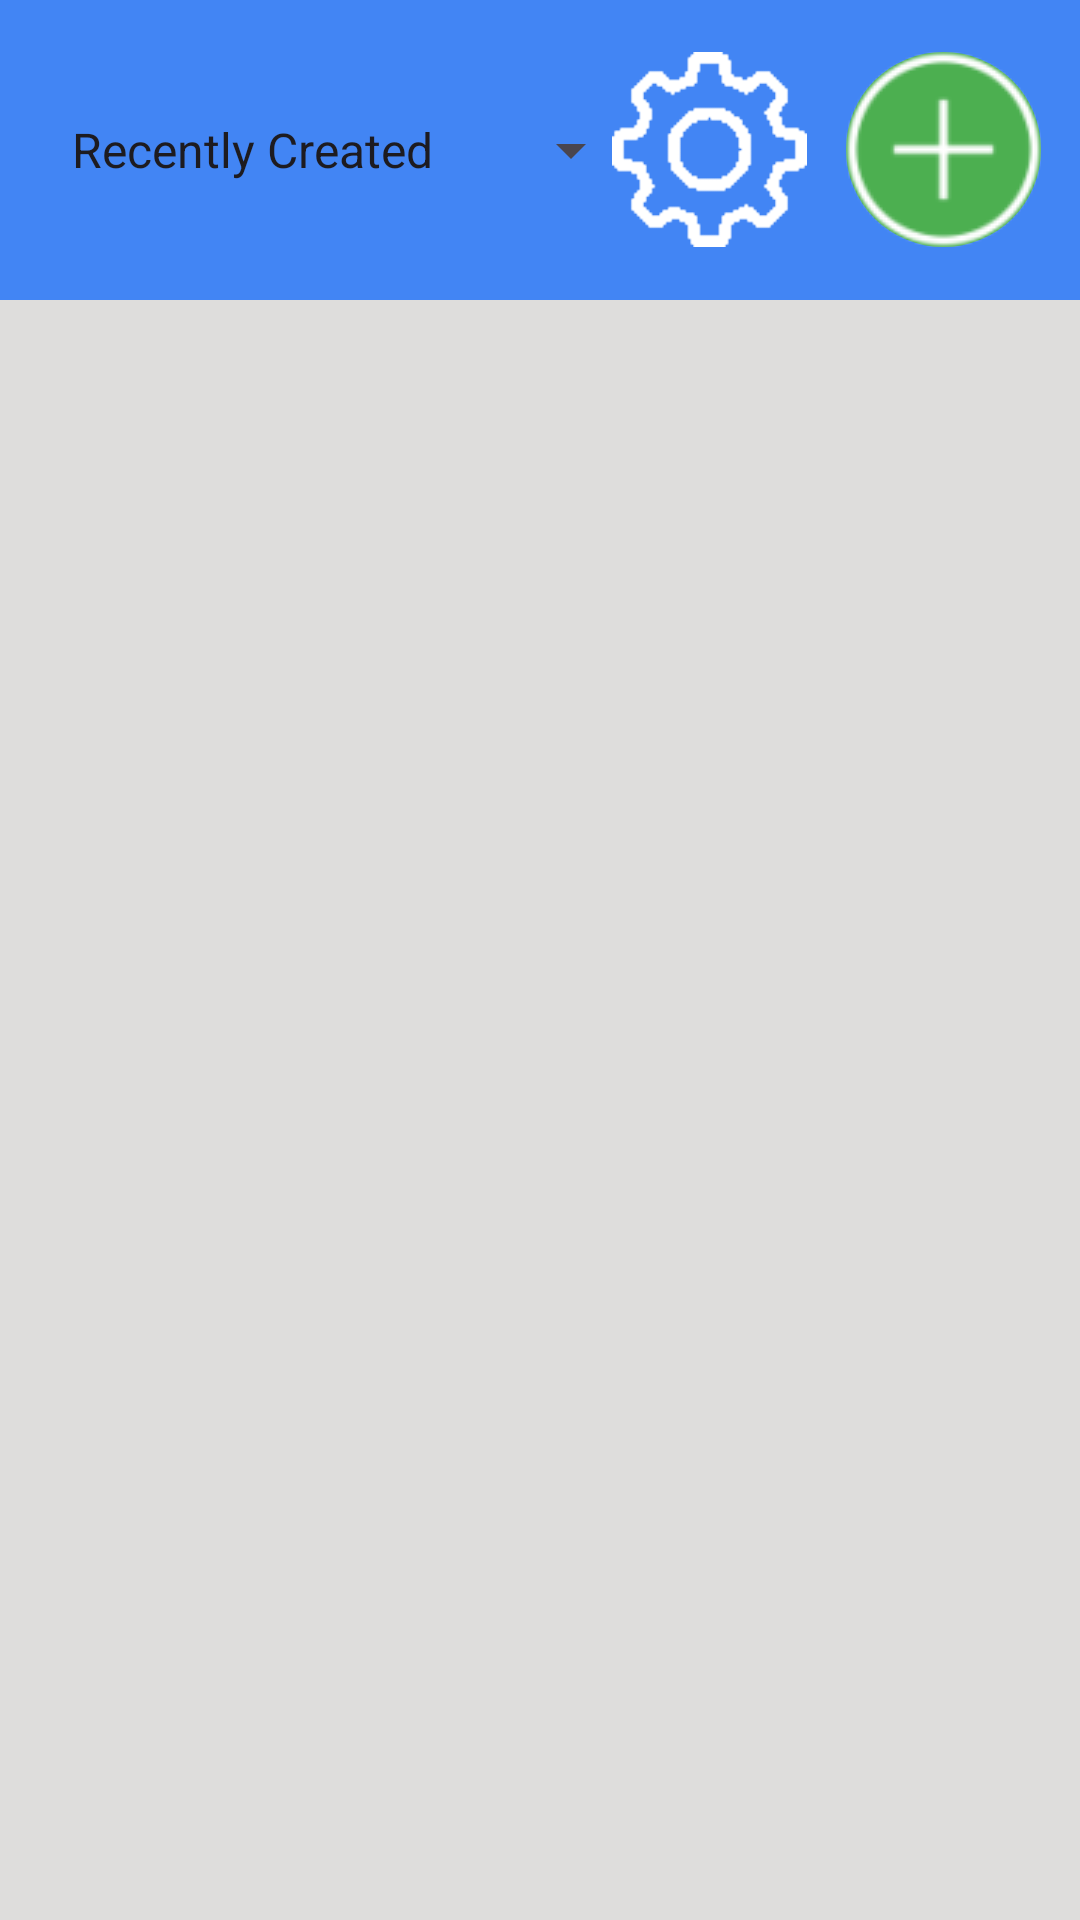

Screen size 1080×1920. Icon name, then its center in pixels as (x,y):
add: (943,149)
settings: (709,149)
